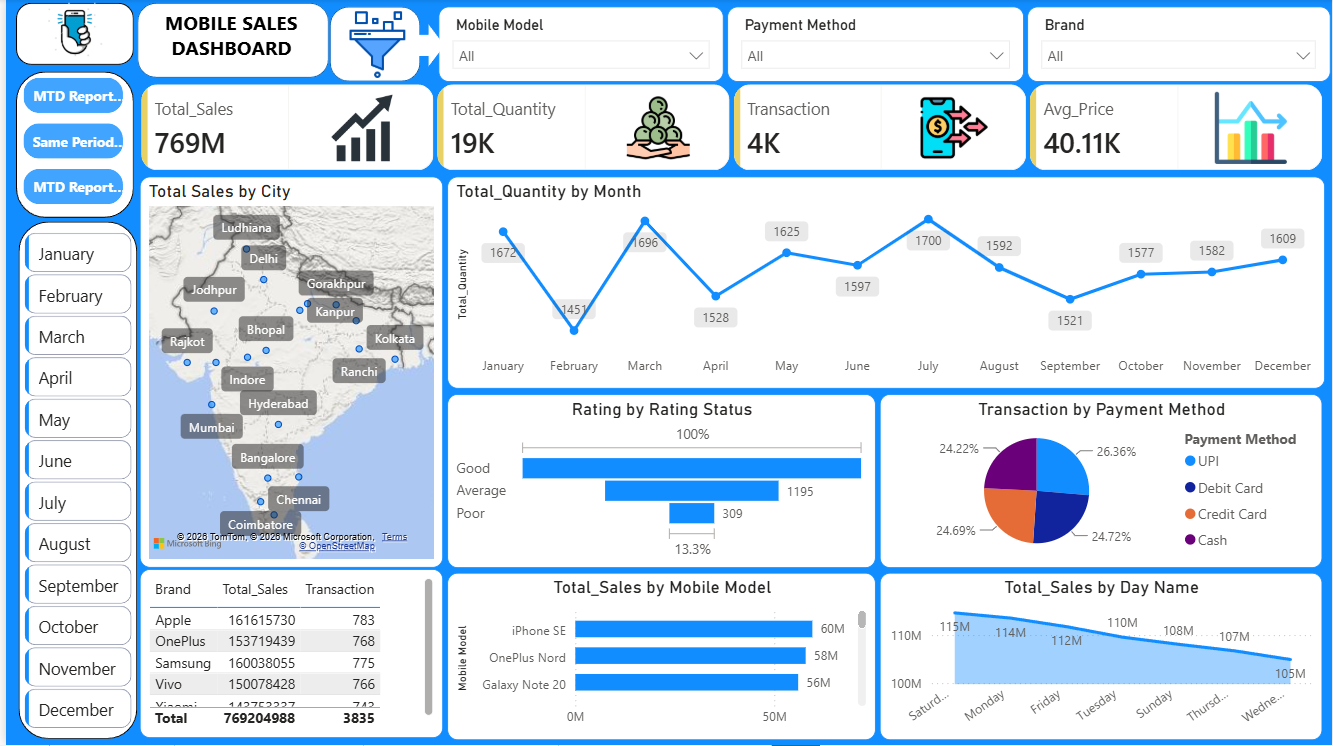

The page's visual inventory and layout, read from the dashboard file:
{"tool":"powerbi","page":{"name":"Dashboard","canvas":[1280,720],"ordinal":0},"visuals":[{"type":"shape","box":[10,3.8,113.8,60],"z":0},{"type":"image","box":[10,3.8,113.8,60],"z":1000},{"type":"shape","box":[10,70,113.8,141.2],"z":2000},{"type":"shape","box":[12.1,214.7,114.6,499.5],"z":3000},{"type":"advancedSlicerVisual","fields":{"Values":["Custom_calender.Date.Variation.Date Hierarchy.Month"]},"box":[13.3,220.8,113.4,493.4],"z":4000},{"type":"cardVisual","fields":{"Data":["Sales_Data.Total_Sales","Sales_Data.Total_Quantity","Sales_Data.Transaction","Sales_Data.Avg_Price"]},"box":[123.8,76.2,1155,95],"z":5000},{"type":"slicer","fields":{"Values":["Sales_Data.Mobile Model"]},"box":[417.5,7.5,275,72.5],"z":6000},{"type":"slicer","fields":{"Values":["Sales_Data.Payment Method"]},"box":[696.2,7.5,286.2,72.5],"z":7000},{"type":"slicer","fields":{"Values":["Sales_Data.Brand"]},"box":[986.2,7.5,292.5,72.5],"z":8000},{"type":"shape","box":[312.5,7.5,87.5,72.5],"z":9000},{"type":"image","box":[317.5,11.2,82.5,66.2],"z":10000},{"type":"shape","box":[392.5,23.8,31.2,41.2],"z":11000},{"type":"shape","box":[126.2,3.8,185,72.5],"z":12000},{"type":"textbox","box":[148.8,5,138.8,80],"z":13000},{"type":"map","title":"Total Sales by City","fields":{"Category":["Sales_Data.City"]},"box":[129.6,171.6,292.6,377.8],"z":14000},{"type":"lineChart","fields":{"Category":["Custom_calender.Date.Variation.Date Hierarchy.Month"],"Y":["Sales_Data.Total_Quantity"]},"box":[425.9,171.6,846.9,204.9],"z":15000},{"type":"funnel","title":"Rating by Rating Status","fields":{"Category":["Sales_Data.Rating_Status"],"Y":["CountNonNull(Sales_Data.Customer Ratings)"]},"box":[425.9,381.5,413.6,167.9],"z":16000},{"type":"pieChart","fields":{"Y":["Sales_Data.Transaction"],"Category":["Sales_Data.Payment Method"]},"box":[843.2,381.5,427.2,167.9],"z":17000},{"type":"clusteredBarChart","fields":{"Y":["Sales_Data.Total_Sales"],"Category":["Sales_Data.Mobile Model"]},"box":[425.9,554.3,413.6,161.7],"z":18000},{"type":"areaChart","fields":{"Y":["Sales_Data.Total_Sales"],"Category":["Custom_calender.Day Name"]},"box":[843.2,554.3,427.2,161.7],"z":19000},{"type":"tableEx","fields":{"Values":["Sales_Data.Brand","Sales_Data.Total_Sales","Sales_Data.Transaction"]},"box":[129.6,550.6,292.6,163],"z":20000},{"type":"pageNavigator","box":[17.3,76.5,96.3,123.5],"z":21000}]}

Visuals, with their boxes in screenshot pixels (x1, y1, x2, y2), scaled from the page's 1280x720 canvas onto the 1333x746 screenshot:
shape: 10, 4, 129, 66
image: 10, 4, 129, 66
shape: 10, 73, 129, 219
shape: 13, 222, 132, 740
advancedSlicerVisual - Custom_calender.Date.Variation.Date Hierarchy.Month: 14, 229, 132, 740
cardVisual - Sales_Data.Total_Sales x Sales_Data.Total_Quantity: 129, 79, 1332, 177
slicer - Sales_Data.Mobile Model: 435, 8, 721, 83
slicer - Sales_Data.Payment Method: 725, 8, 1023, 83
slicer - Sales_Data.Brand: 1027, 8, 1332, 83
shape: 325, 8, 417, 83
image: 331, 12, 417, 80
shape: 409, 25, 441, 67
shape: 131, 4, 324, 79
textbox: 155, 5, 300, 88
"Total Sales by City" map: 135, 178, 440, 569
lineChart - Custom_calender.Date.Variation.Date Hierarchy.Month x Sales_Data.Total_Quantity: 444, 178, 1326, 390
"Rating by Rating Status" funnel: 444, 395, 874, 569
pieChart - Sales_Data.Transaction x Sales_Data.Payment Method: 878, 395, 1323, 569
clusteredBarChart - Sales_Data.Total_Sales x Sales_Data.Mobile Model: 444, 574, 874, 742
areaChart - Sales_Data.Total_Sales x Custom_calender.Day Name: 878, 574, 1323, 742
tableEx - Sales_Data.Brand x Sales_Data.Total_Sales: 135, 570, 440, 739
pageNavigator: 18, 79, 118, 207
